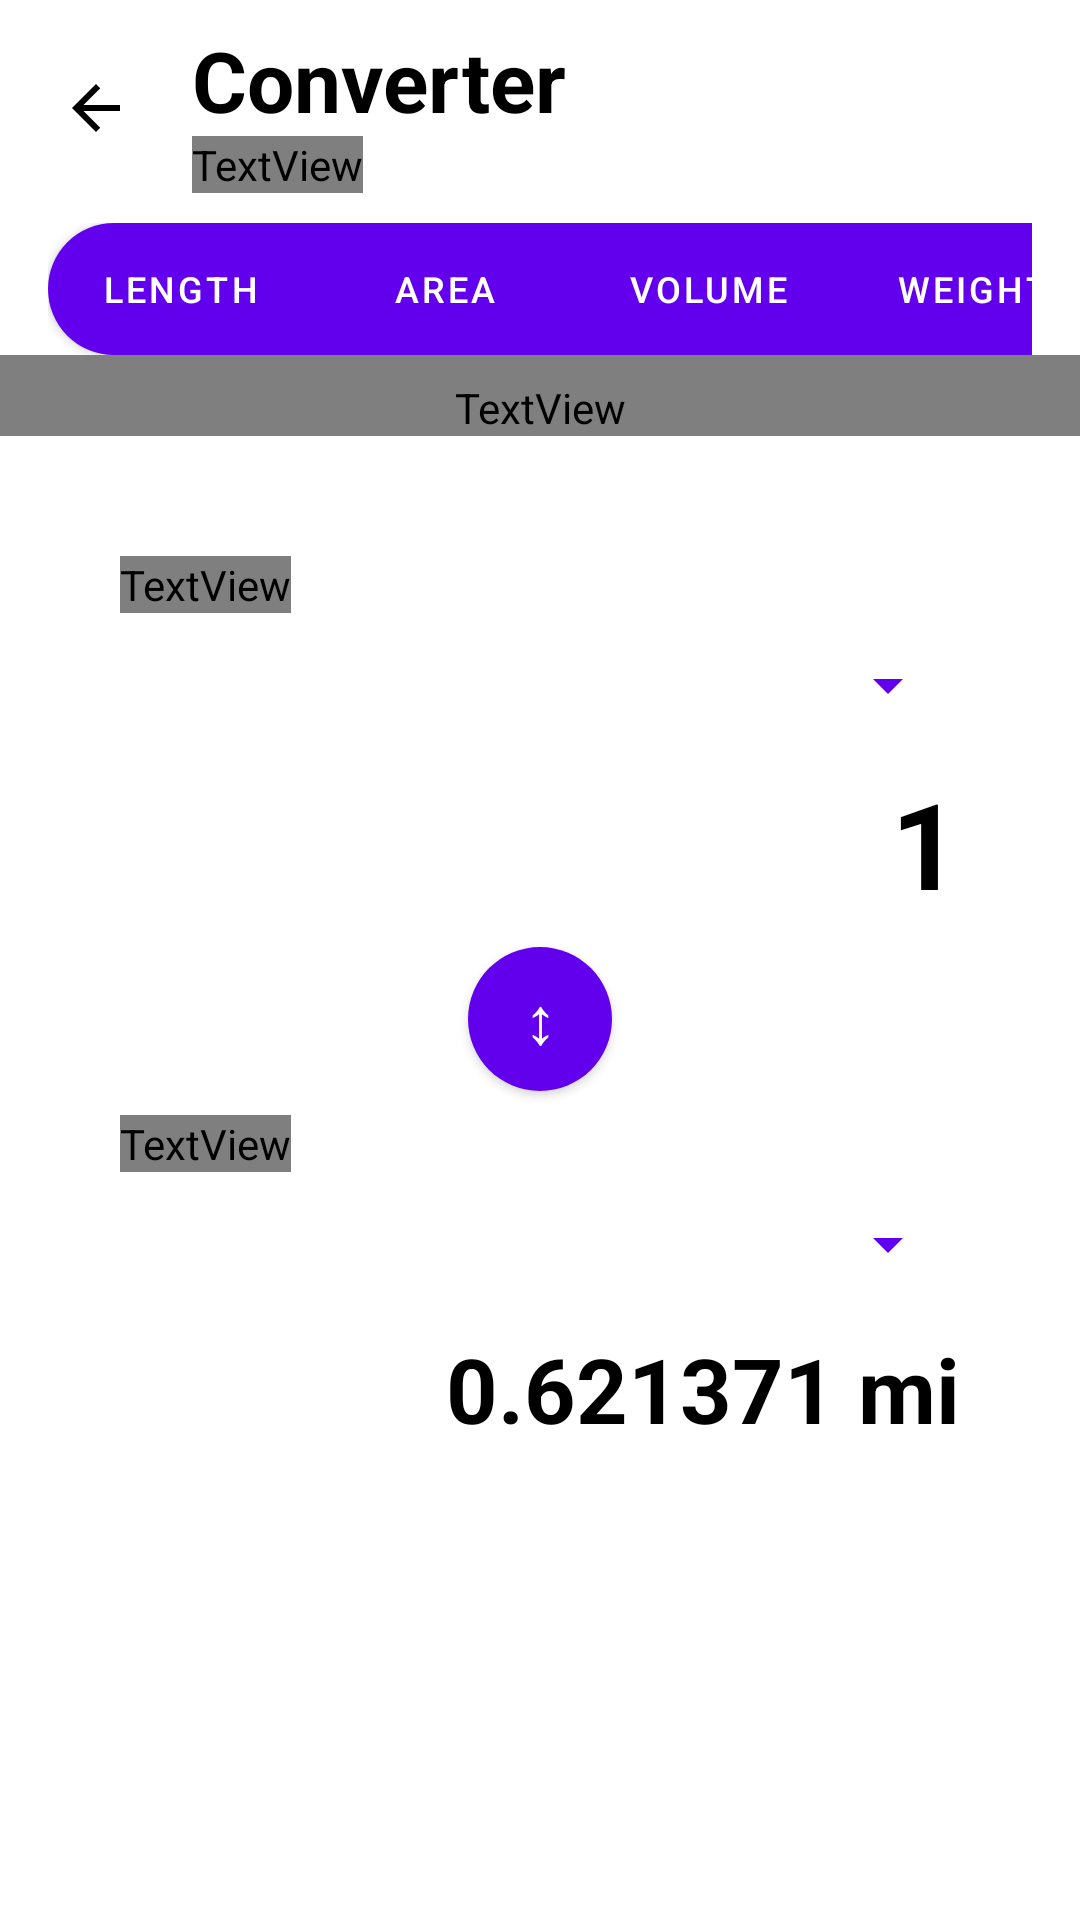

Where icons sit on this 1080w x 1920h app screen, as {"x1": x1, "y1": y1, "x2": x2, "y2": y2}:
Back: {"x1": 72, "y1": 84, "x2": 120, "y2": 132}
